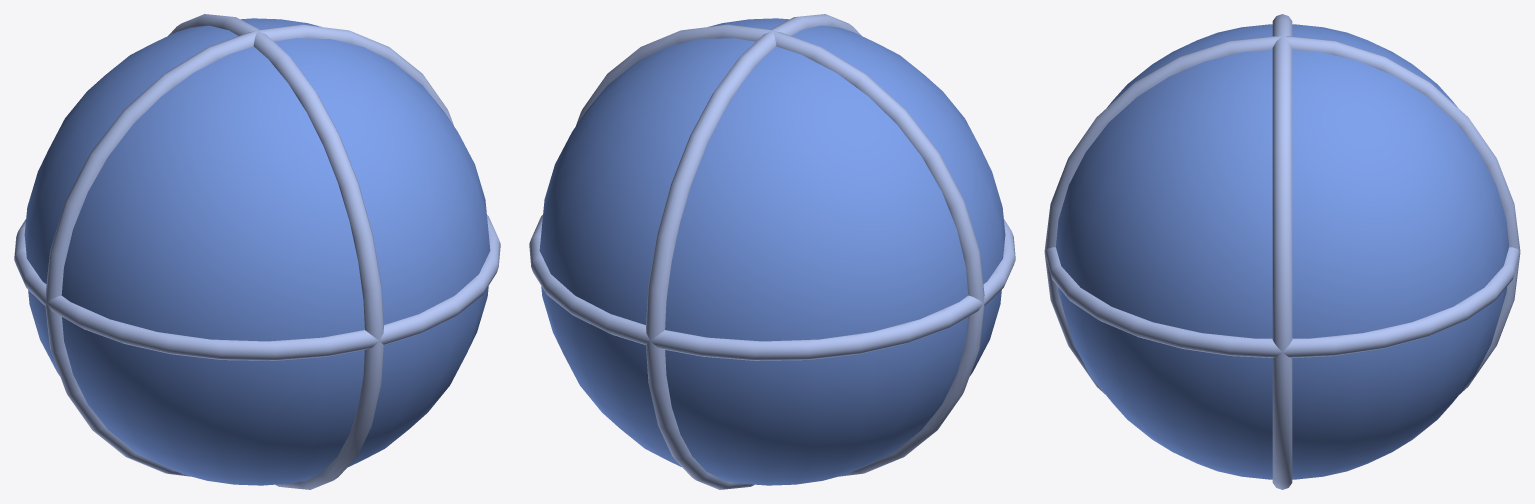
File: VM-ACC-EXT147.glb
3 views of the same model, side by side, from view 1: azimuth 30°, elevation 25°; view 2: azimuth 150°, elevation 25°; view 3: azimuth 270°, elevation 25° (orthographic). The views are drawn at different scales.
Parts seen in each view (by area): view 1: Balón de Fútbol; view 2: Balón de Fútbol; view 3: Balón de Fútbol.
Part boxes in pixels (left/top/right/bottom): Balón de Fútbol: left=14, top=14, right=500, bottom=489; Balón de Fútbol: left=529, top=14, right=1015, bottom=489; Balón de Fútbol: left=1044, top=14, right=1520, bottom=489.
Bounding box in the file's own units: 0.224 × 0.224 × 0.224.
